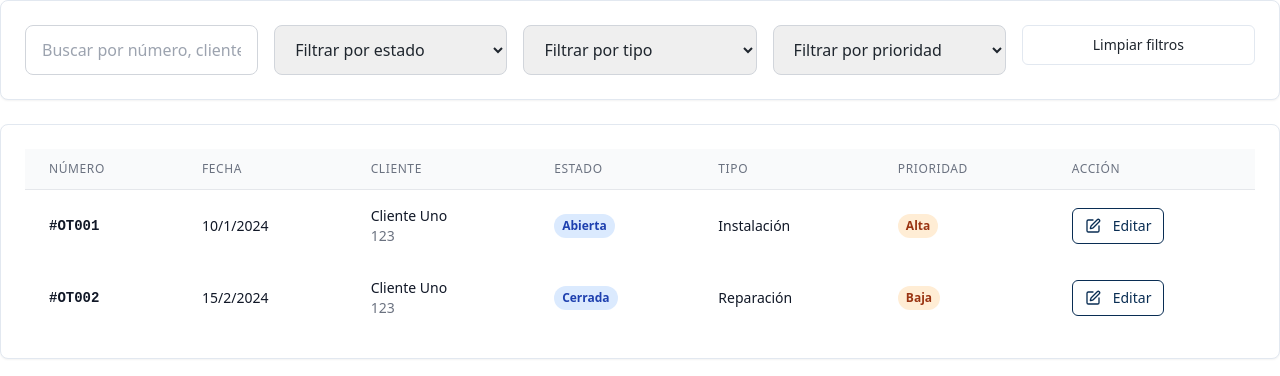
Test: OrdersTable › filtra por estado
Select "Cerrada" in the 1st dropdown: {"x": 391, "y": 50} [274, 25, 507, 75]
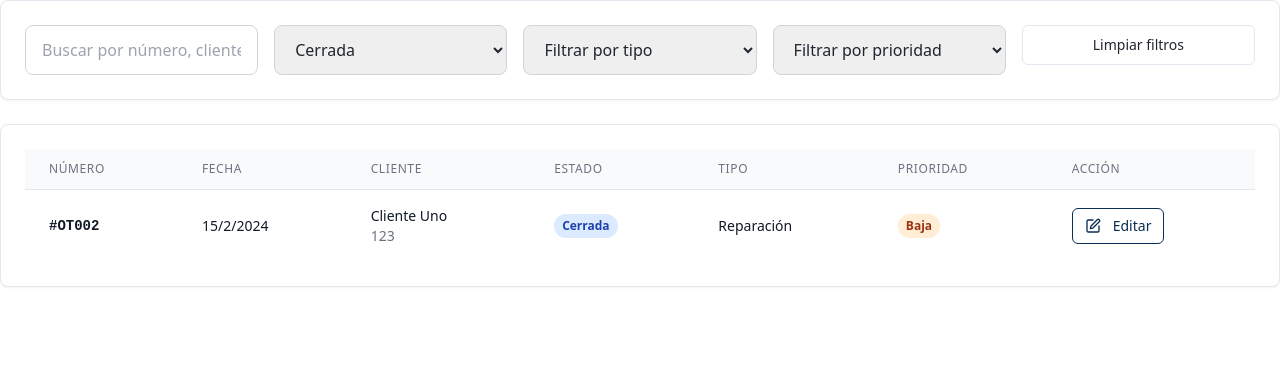
Expected: the text "#OT002" is shown, [25, 190, 178, 262]
Expected: the text "#OT001" is gone
